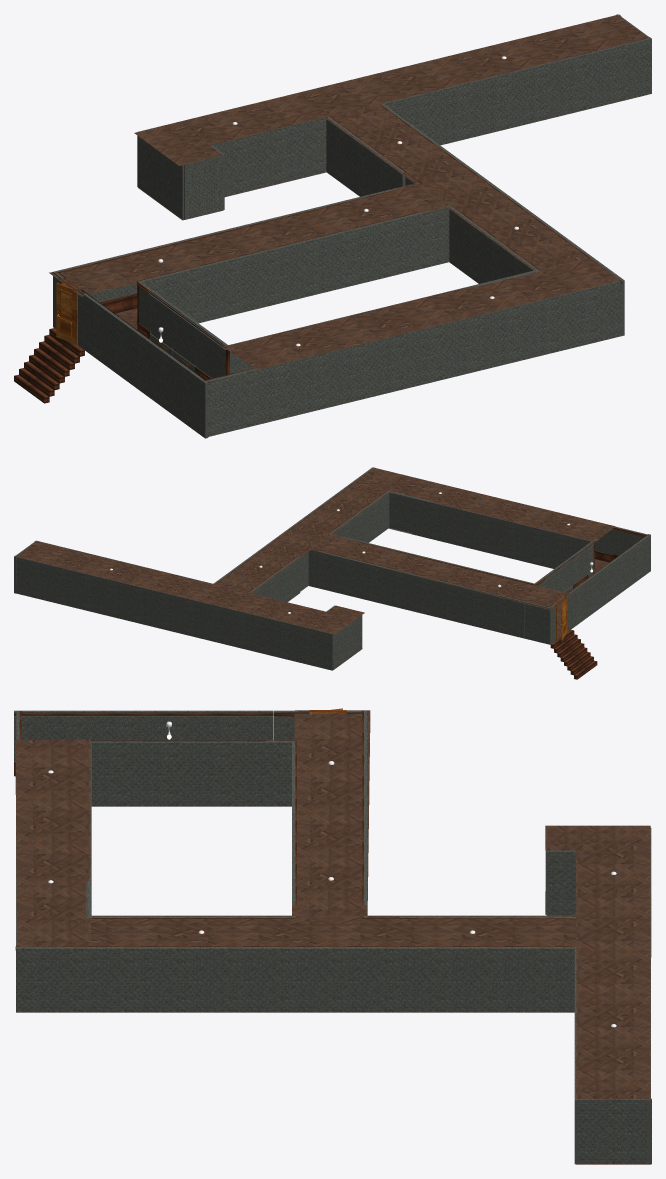
Rendered from house_corridor_interior 1.glb.
3 views of the same model, one above another, from view 1: azimuth 30°, elevation 25°; view 2: azimuth 150°, elevation 25°; view 3: azimuth 270°, elevation 25° (orthographic). The views are drawn at different scales.
Parts seen in each view (by area): view 1: duvar.071_169, object 150, Cube.009_0, duvar.015_187, crate wooden box_3, object 3; view 2: duvar.071_169, object 150, Cube.009_0, crate wooden box_3; view 3: duvar.071_169, object 150, duvar.005_178.
Part boxes in pixels (x1=…): duvar.071_169: x1=53, y1=14, x2=651, y2=438; object 150: x1=49, y1=15, x2=648, y2=369; Cube.009_0: x1=14, y1=328, x2=84, y2=403; duvar.015_187: x1=184, y1=155, x2=223, y2=219; crate wooden box_3: x1=56, y1=278, x2=80, y2=345; object 3: x1=55, y1=184, x2=420, y2=273; duvar.071_169: x1=14, y1=467, x2=650, y2=670; object 150: x1=16, y1=468, x2=615, y2=634; Cube.009_0: x1=550, y1=630, x2=597, y2=679; crate wooden box_3: x1=554, y1=596, x2=567, y2=640; duvar.071_169: x1=14, y1=710, x2=651, y2=1164; object 150: x1=15, y1=710, x2=650, y2=1099; duvar.005_178: x1=14, y1=712, x2=309, y2=716.
Bounding box in the file's own units: 166 × 21.84 × 109.
Materials: 12 (9 with a texture image).
